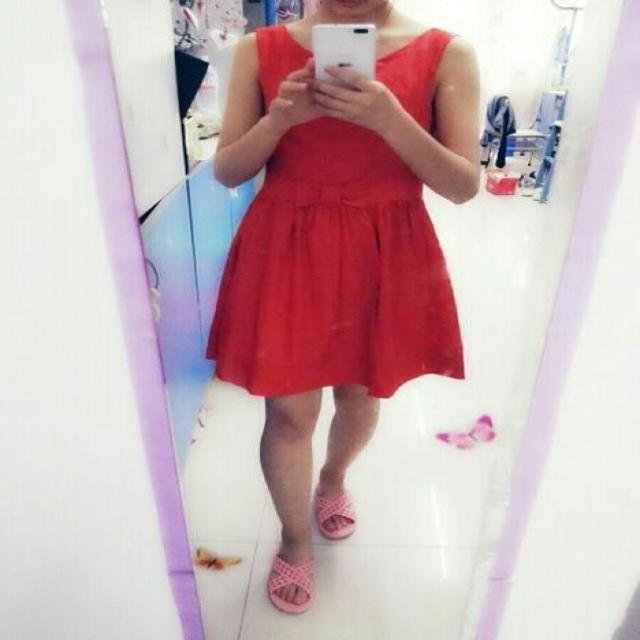short-sleeve-dress: (188, 28, 541, 470)
